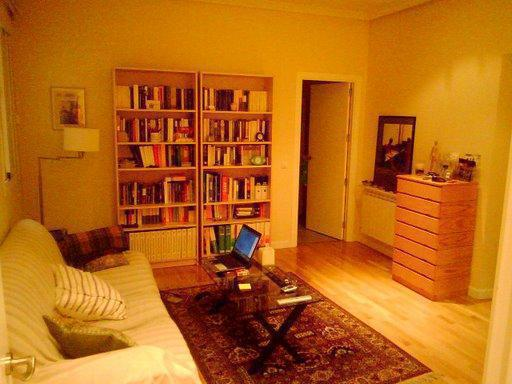Puerta: (310, 85, 346, 234)
